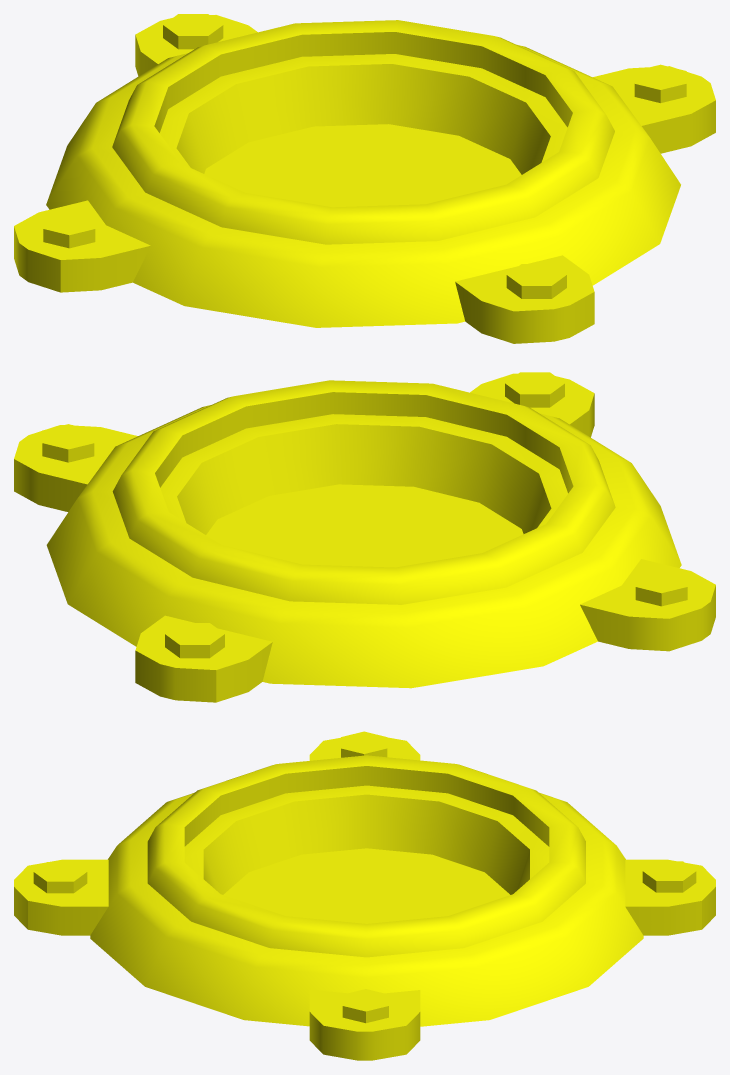
The picture shows the model from 3 angles, top to bottom: view 1: azimuth 30°, elevation 25°; view 2: azimuth 150°, elevation 25°; view 3: azimuth 270°, elevation 25°; orthographic projection. The views are drawn at different scales.
Parts seen in each view (by area): view 1: Base, Circle; view 2: Base, Circle; view 3: Base, Circle.
Boxes of the visible parts, x1,y1,x2,y2 form: Base: [14, 14, 715, 343]; Circle: [112, 20, 614, 244]; Base: [14, 372, 715, 702]; Circle: [112, 380, 615, 604]; Base: [14, 731, 715, 1060]; Circle: [147, 755, 585, 957].
Size of the model in its own units: 0.0192 by 0.00209 by 0.0192.
Materials: 1 (1 with a texture image).
